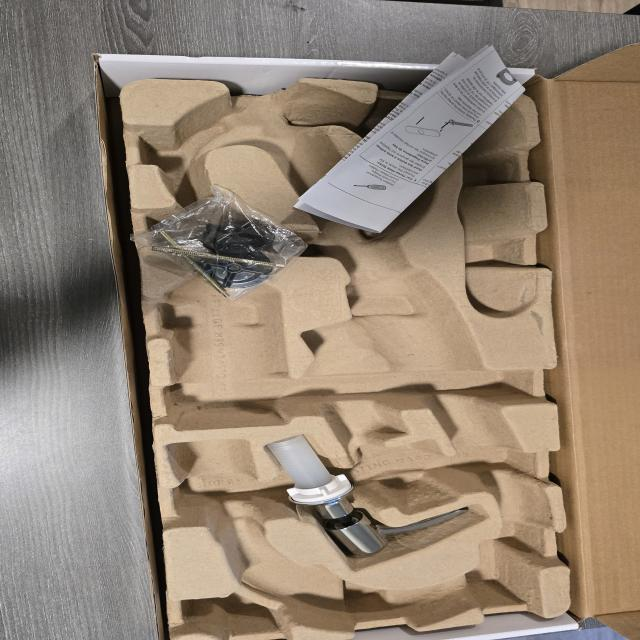1m: (171, 83, 550, 624)
2: (267, 436, 472, 557)
3m: (163, 254, 286, 430)
4m: (450, 93, 539, 318)
5m: (358, 101, 434, 149)
6m: (142, 113, 234, 186)
7: (129, 187, 312, 298)
8: (293, 44, 529, 234)
